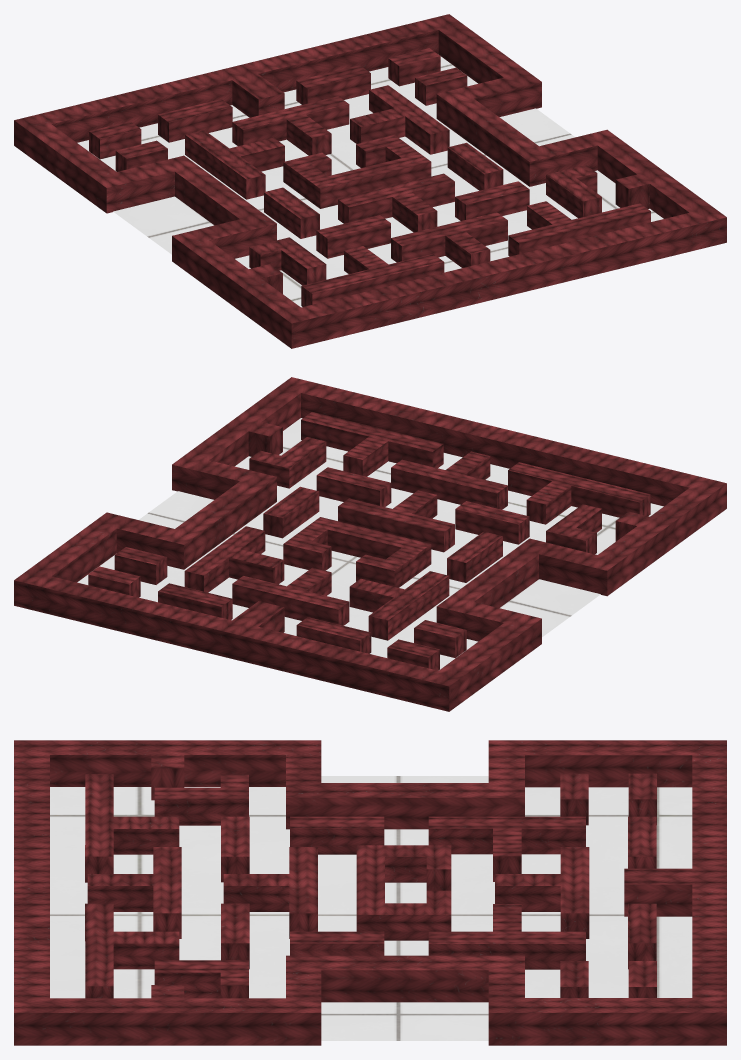
File: Map.fbx
The picture shows the model from 3 angles, top to bottom: view 1: azimuth 30°, elevation 25°; view 2: azimuth 150°, elevation 25°; view 3: azimuth 270°, elevation 25°; orthographic projection. The views are drawn at different scales.
Visible parts, largest first — view 1: Cube.021, Cube.019, Plane.001; view 2: Cube.021, Cube.019, Plane.001; view 3: Cube.021, Cube.019, Plane.001.
Boxes of the visible parts, x1=… form: Cube.021: x1=14, y1=14, x2=726, y2=348; Cube.019: x1=89, y1=48, x2=650, y2=306; Plane.001: x1=77, y1=56, x2=663, y2=307; Cube.021: x1=14, y1=377, x2=726, y2=711; Cube.019: x1=88, y1=412, x2=650, y2=670; Plane.001: x1=77, y1=418, x2=663, y2=669; Cube.021: x1=14, y1=740, x2=726, y2=1045; Cube.019: x1=85, y1=773, x2=656, y2=998; Plane.001: x1=50, y1=776, x2=692, y2=1040.
Bounding box in the file's own units: 453 × 38.25 × 500.
Materials: 2 (2 with a texture image).
